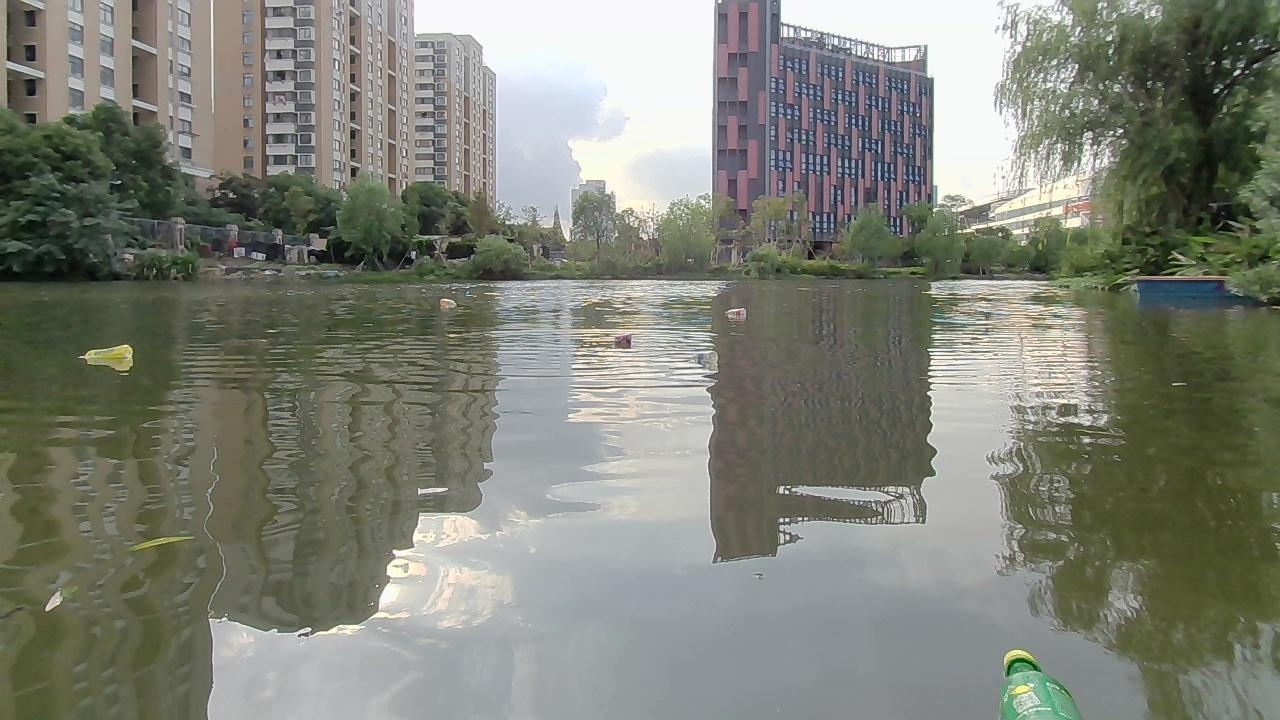bottle: (989, 642, 1082, 708), (78, 342, 136, 369), (608, 327, 643, 352), (689, 347, 718, 367), (722, 303, 746, 324), (436, 295, 453, 307)
